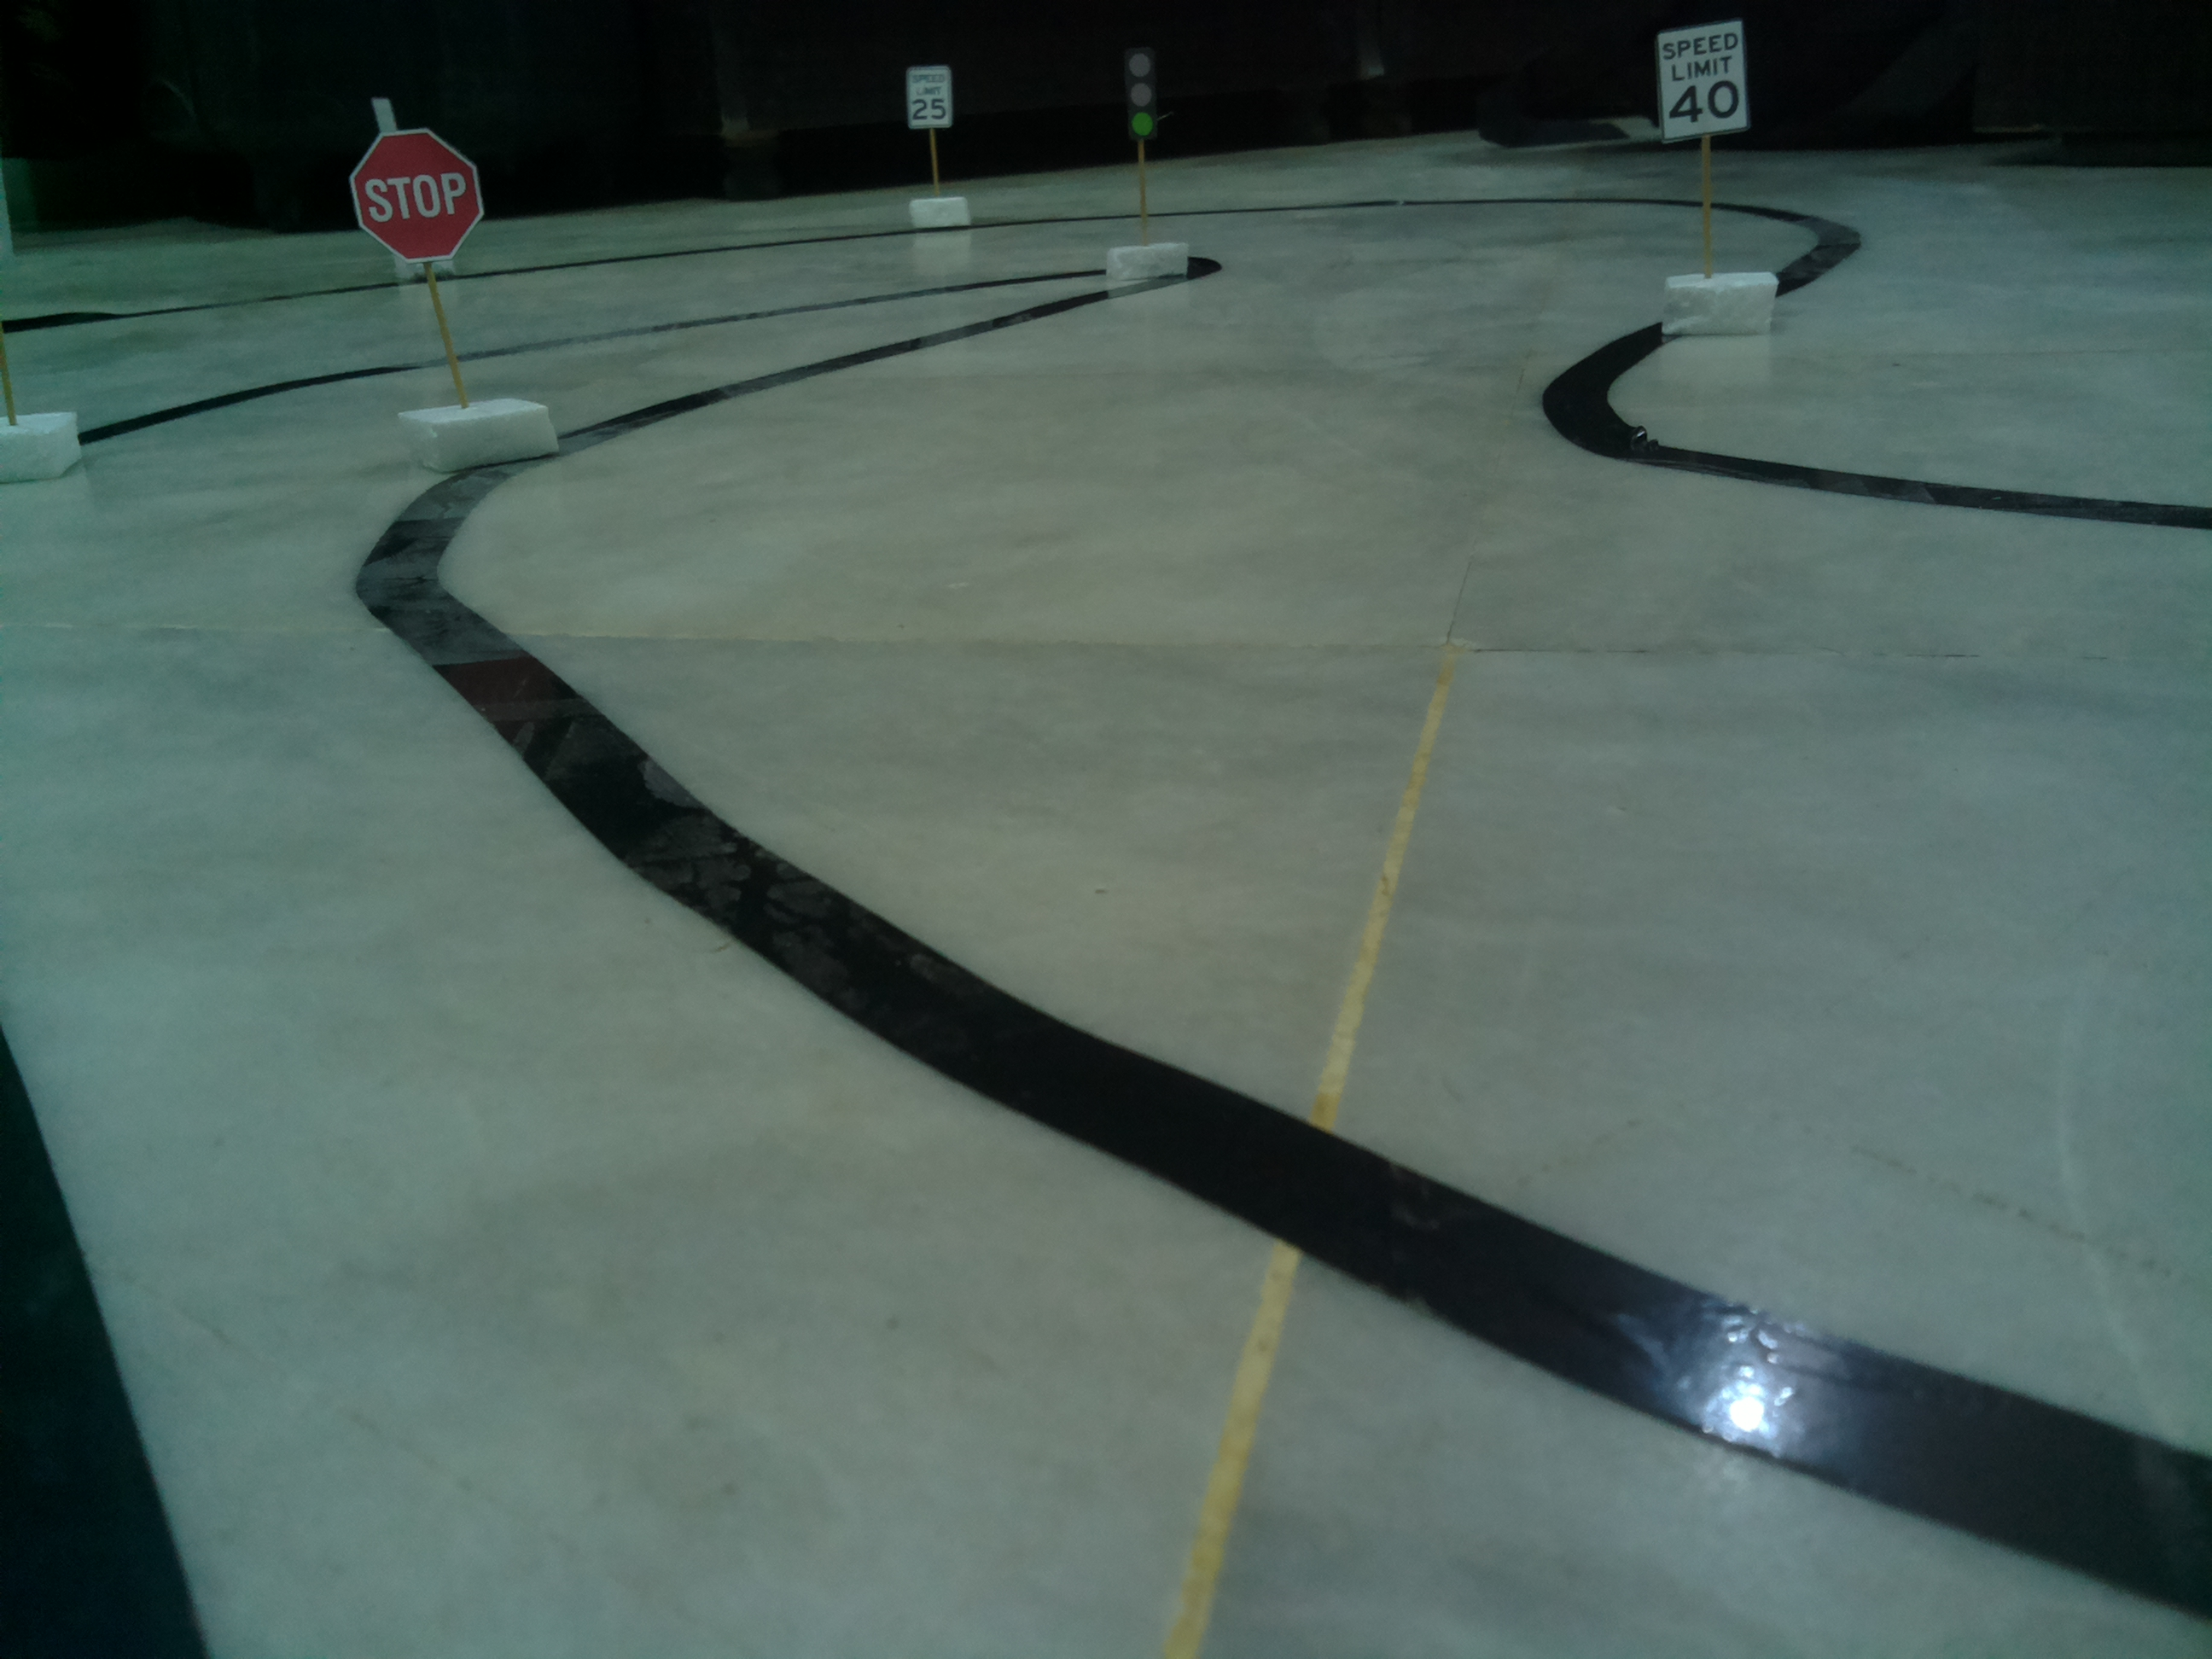Green traffic light: (1120, 42, 1165, 145)
Speed limit 25: (906, 59, 954, 134)
Speed limit 40: (1656, 19, 1756, 145)
Stop sign: (341, 124, 489, 265)
